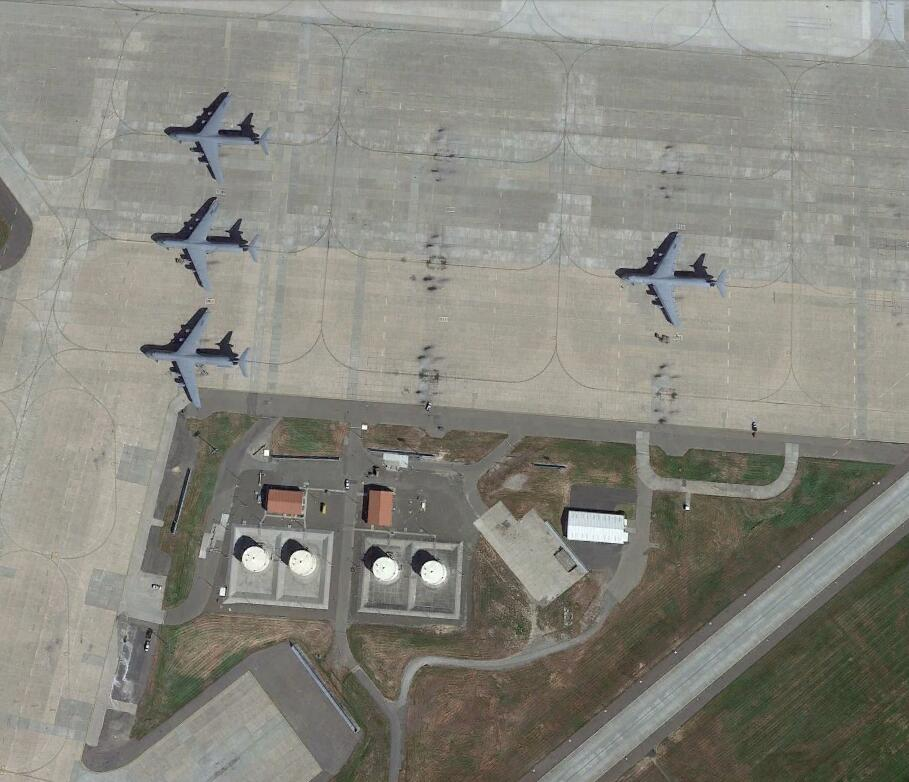A4: (142, 308, 252, 406), (155, 196, 263, 294), (167, 91, 274, 183), (621, 232, 730, 320)
